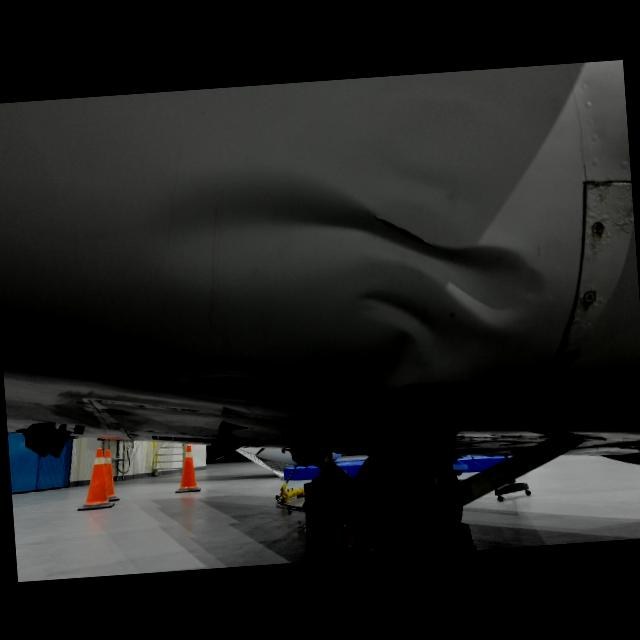dent: (140, 146, 550, 348), (168, 344, 488, 442), (342, 281, 466, 375)
